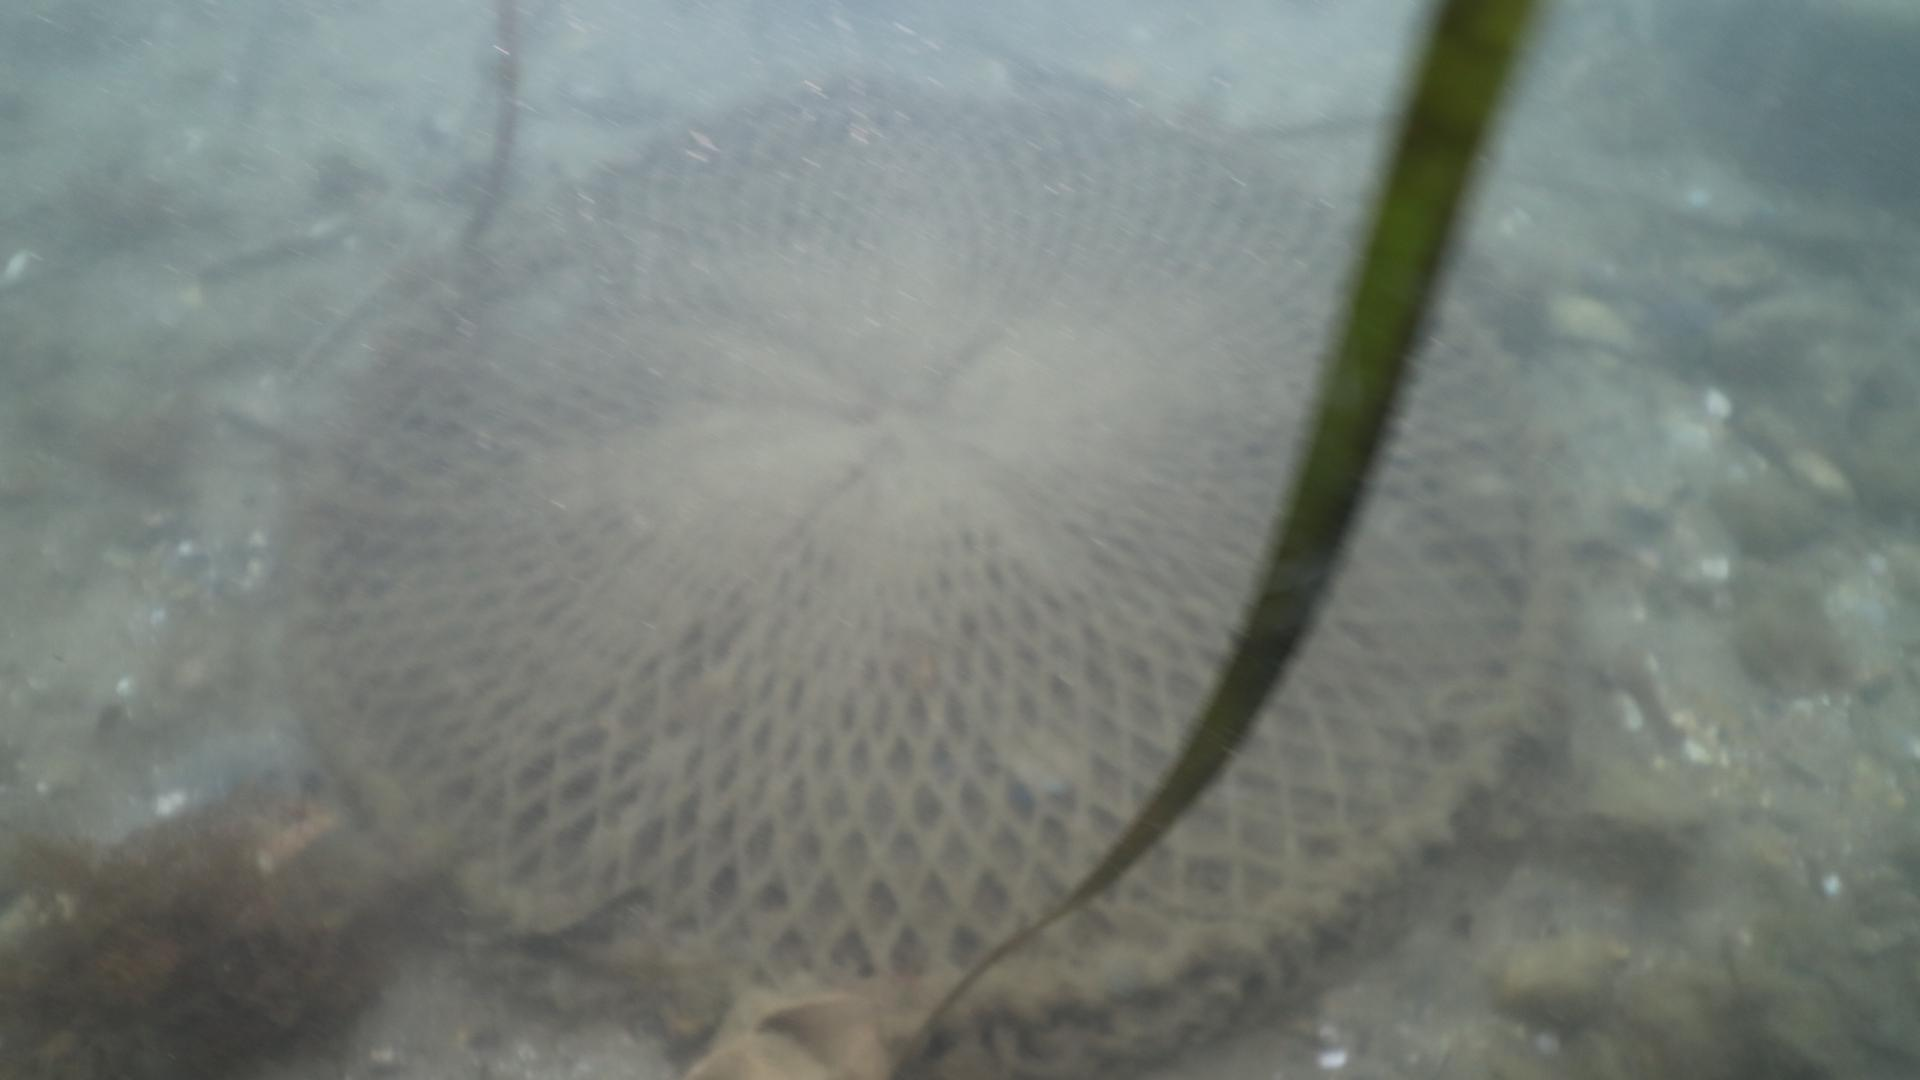circular fish trap: (286, 75, 1565, 1080)
